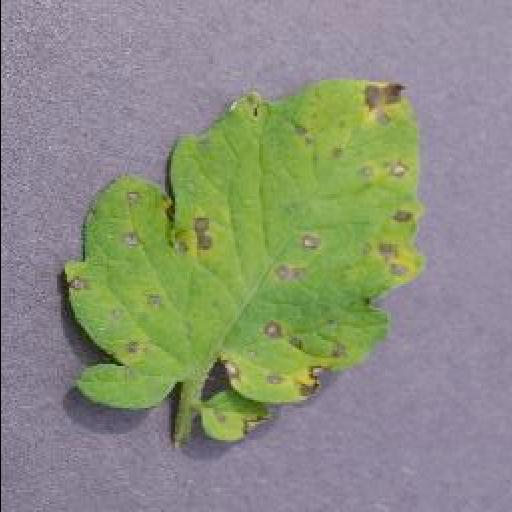disease_tomato: (62, 78, 428, 446)
